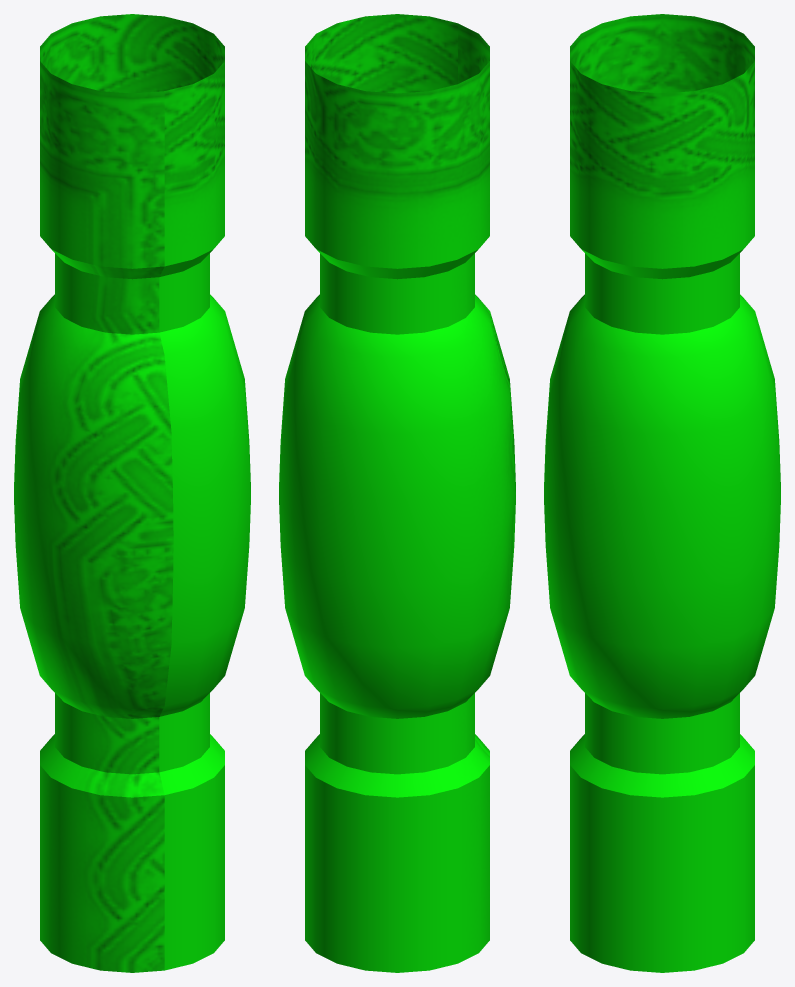
3 views of the same model, side by side, from view 1: azimuth 30°, elevation 25°; view 2: azimuth 150°, elevation 25°; view 3: azimuth 270°, elevation 25° (orthographic).
Parts seen in each view (by area): view 1: Cylinder006; view 2: Cylinder006; view 3: Cylinder006.
Part boxes in pixels (box(x1,y1,x2,y2)): Cylinder006: box(14, 14, 250, 972); Cylinder006: box(279, 14, 515, 972); Cylinder006: box(544, 14, 780, 972).
Bounding box in the file's own units: 10.87 × 43.84 × 10.7.
